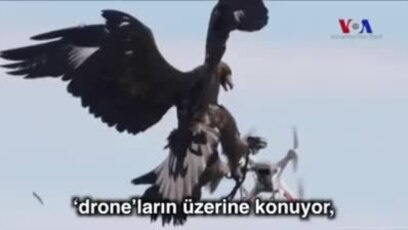Bird: (1, 4, 276, 218)
UAV: (218, 131, 321, 214)
